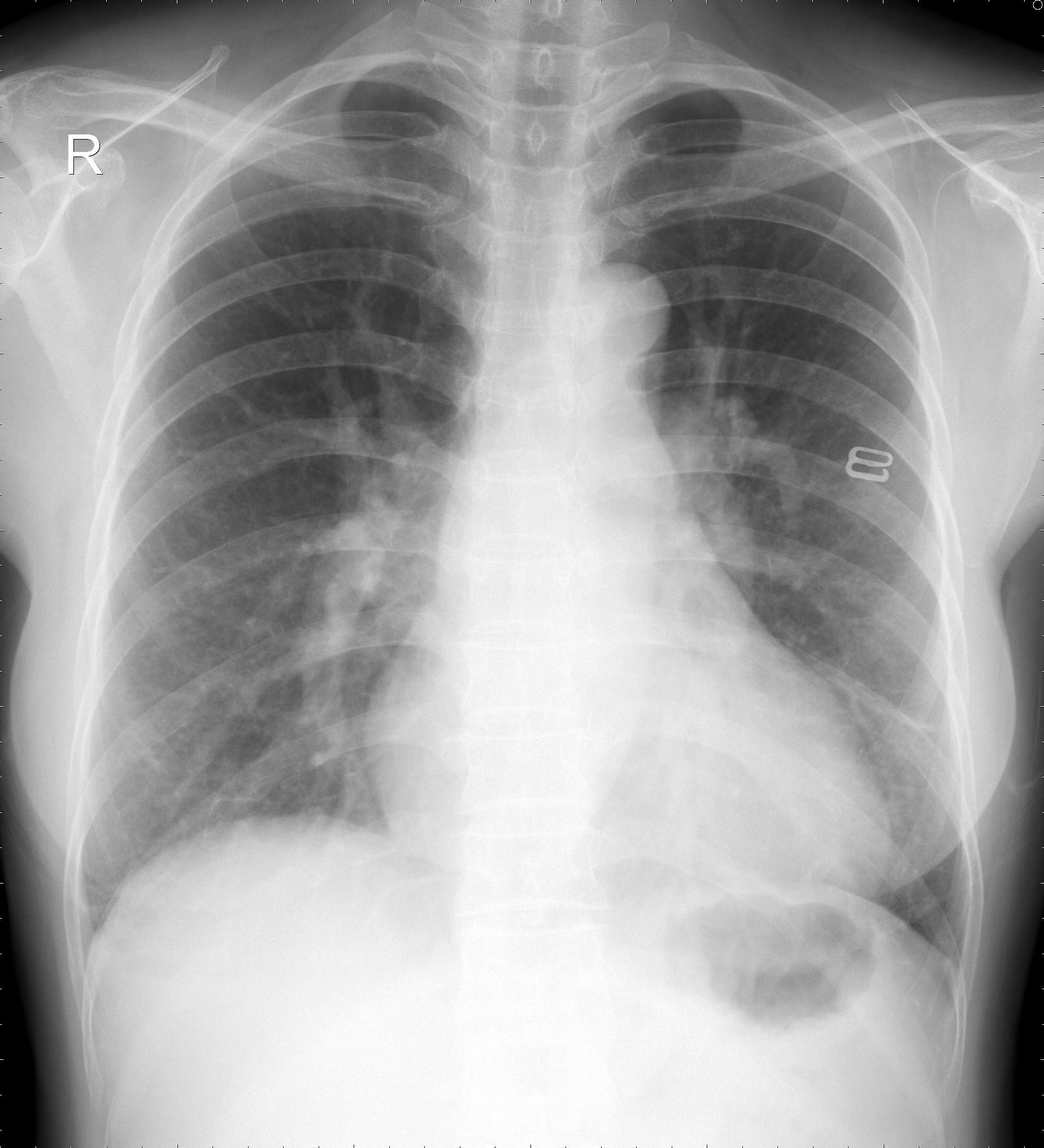Aortic enlargement: (538, 266, 665, 369)
Cardiomegaly: (358, 669, 895, 934)
